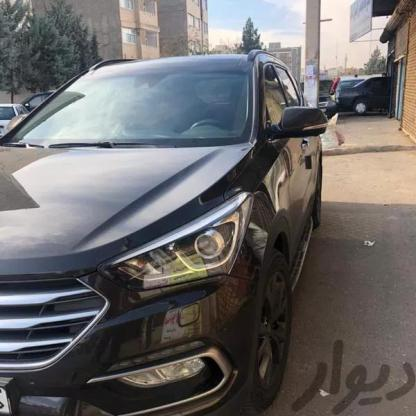Car: (0, 59, 325, 416), (321, 78, 416, 118)
